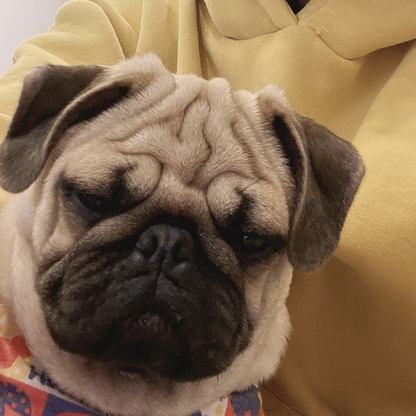Pug: (1, 47, 375, 416)
